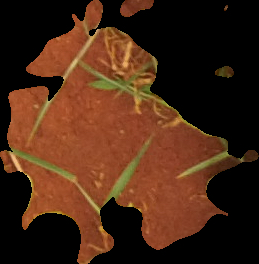soil: (2, 4, 254, 261)
